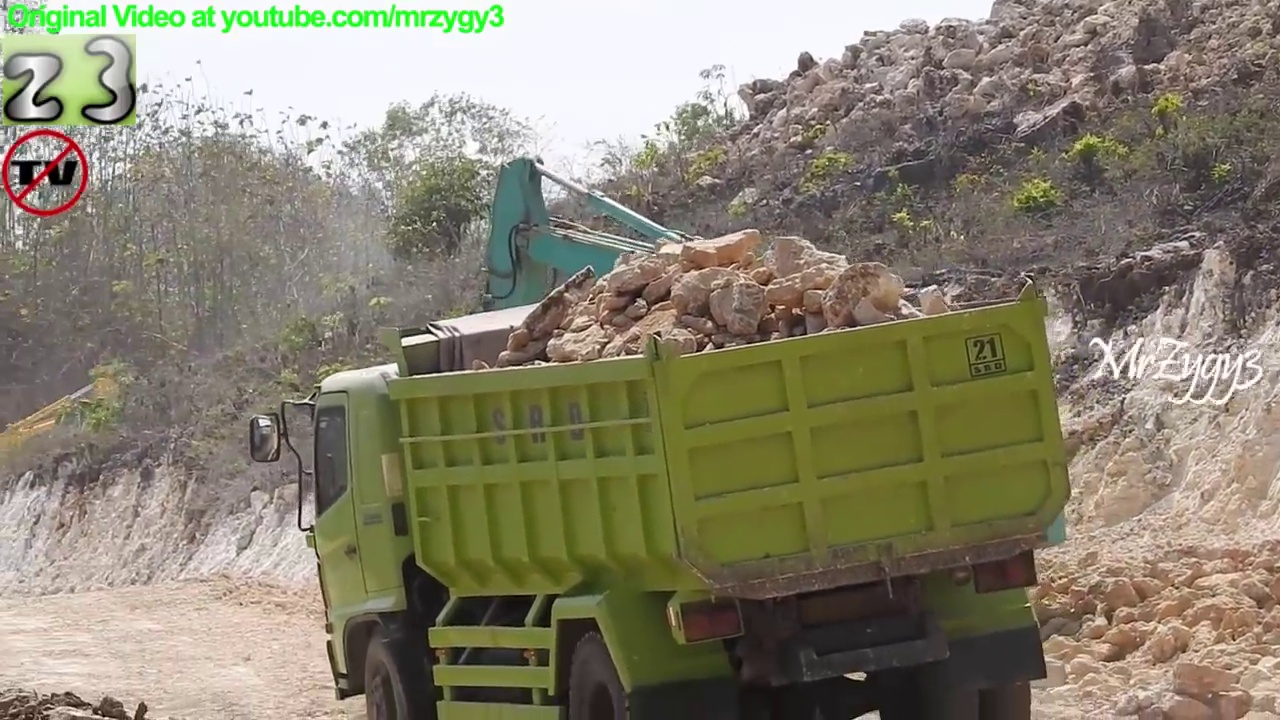excavator: (440, 151, 1082, 647), (1, 362, 147, 492)
truck: (244, 271, 1083, 720)
